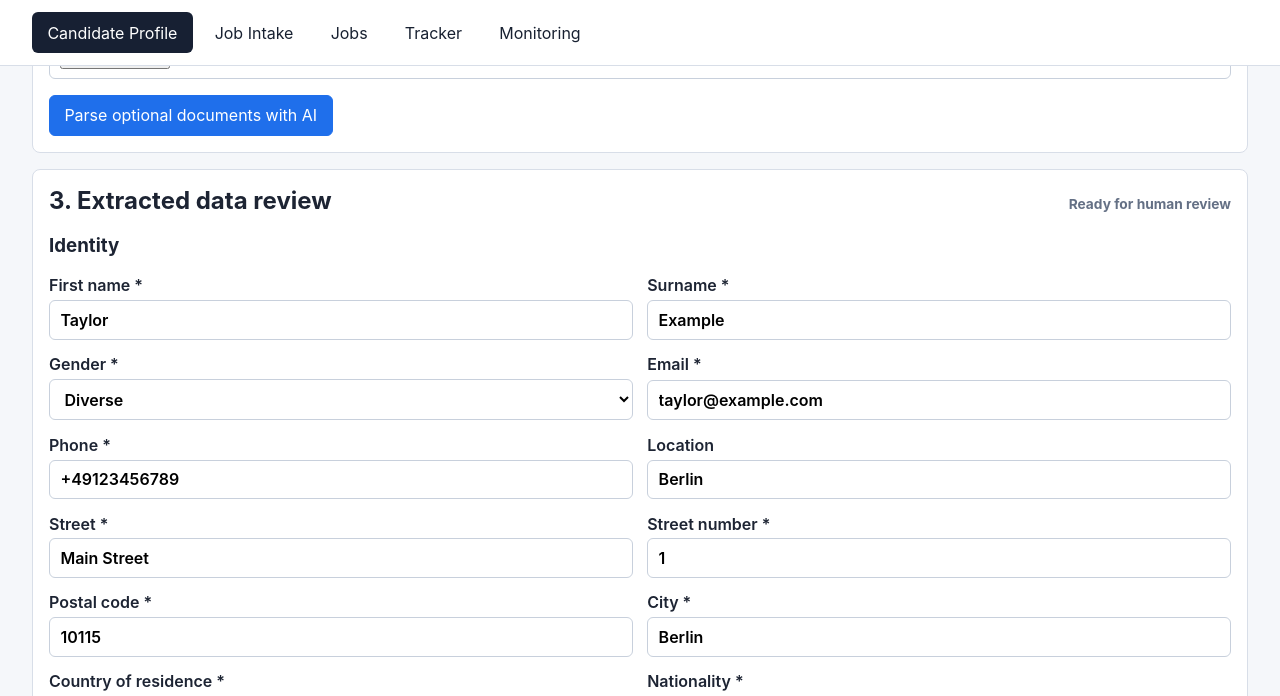
Test: App workflow pages › loads Candidate Profile fields and surfaces API save errors
(page scrolled)
Expected: the field showing "Taylor" is shown, [49,300,633,340]
Replace the text in the field labelled "Email *" with "bad-email": point(939, 400) [647,380,1231,420]
(page scrolled)
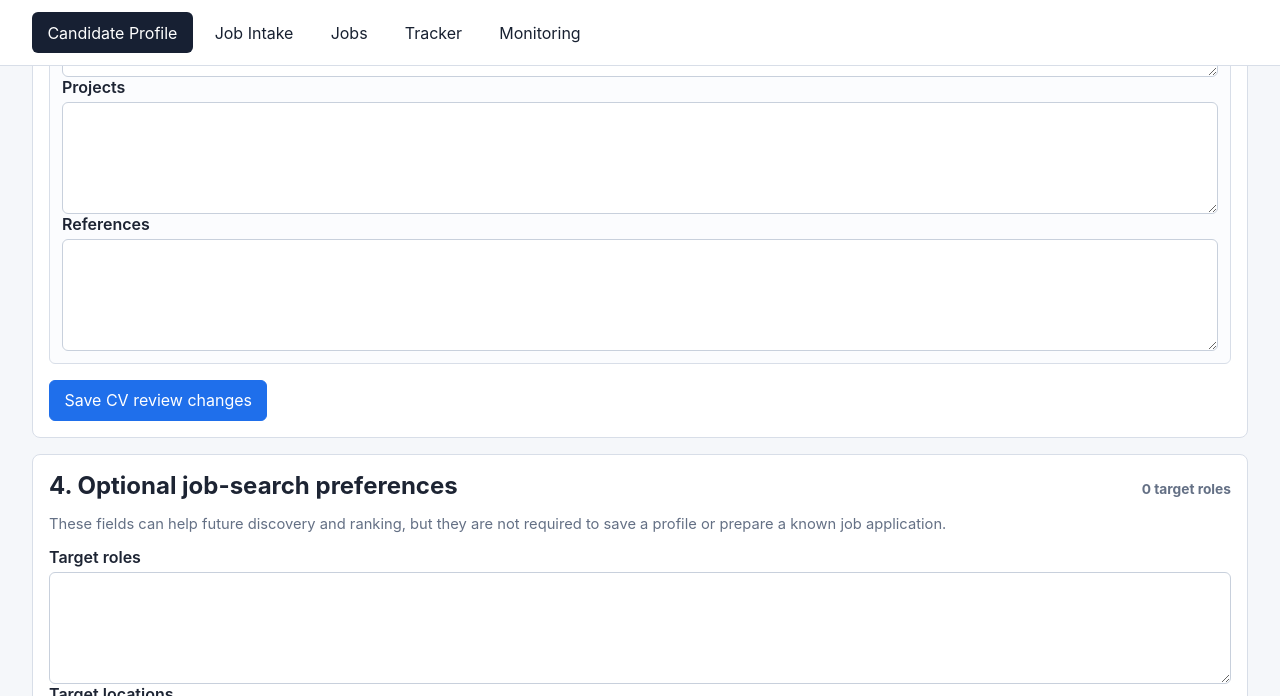
Click the button "Save CV review changes": point(158, 400) [49,380,267,421]
(page scrolled)
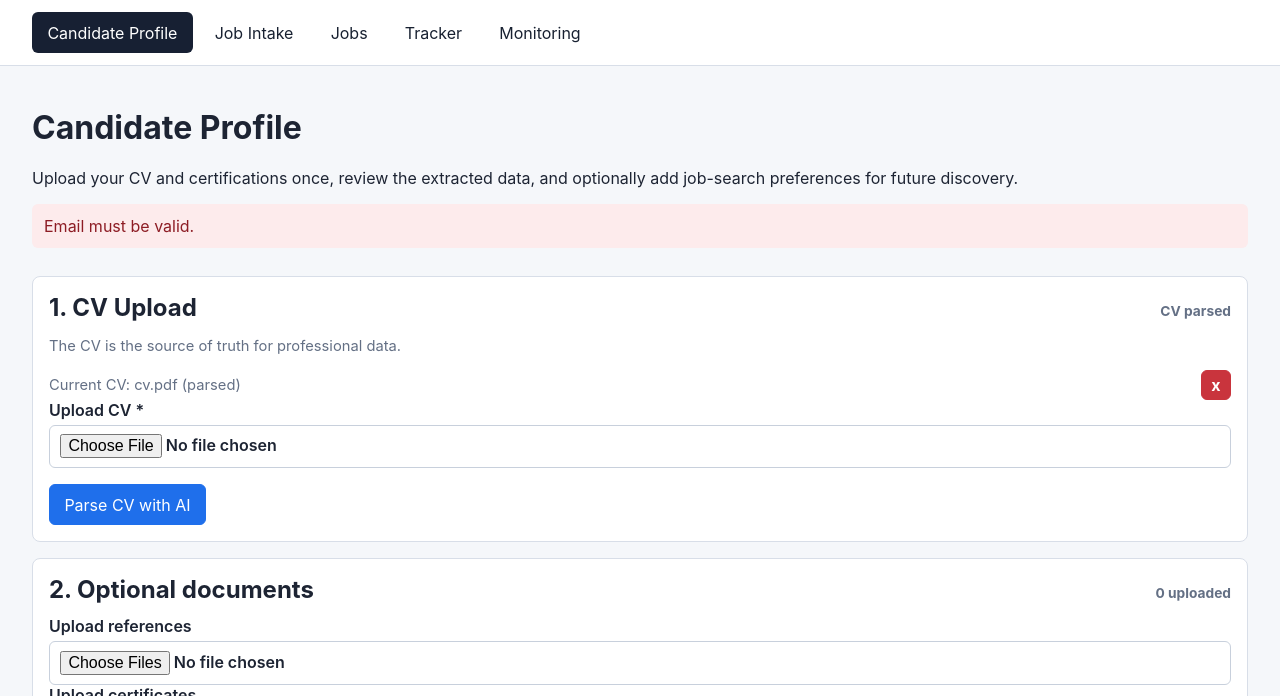
Expected: the text "Email must be valid." is shown, [32,204,1248,248]
